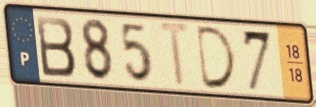5: (121, 21, 156, 83)
7: (239, 28, 276, 93)
8: (79, 17, 116, 83)
B: (33, 13, 78, 79)
D: (195, 24, 240, 92)
T: (156, 19, 195, 90)
